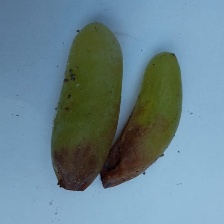grapes: (35, 12, 171, 186)
